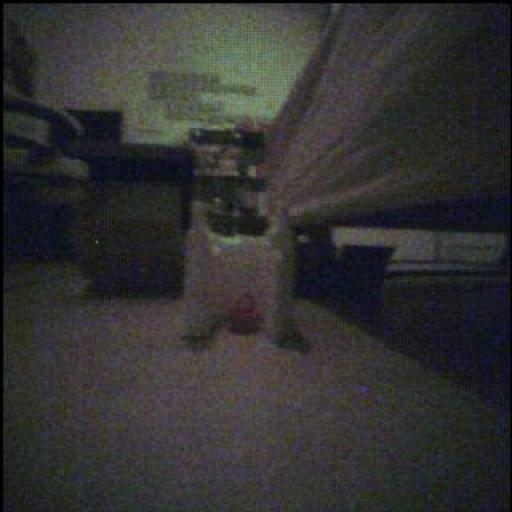basket: (230, 290, 264, 338)
